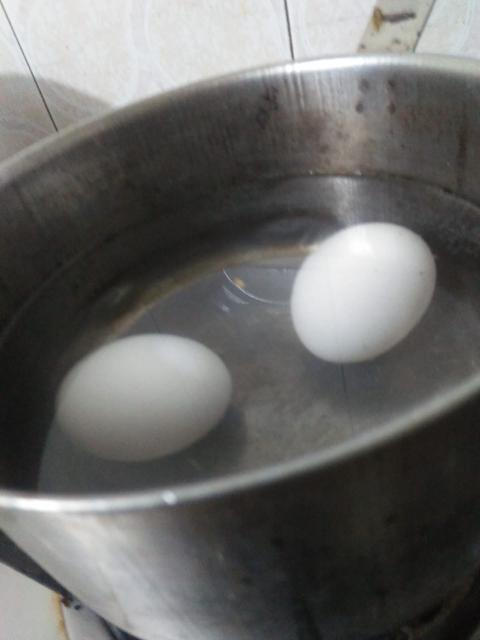Sano: (56, 333, 232, 462), (287, 221, 437, 365)
